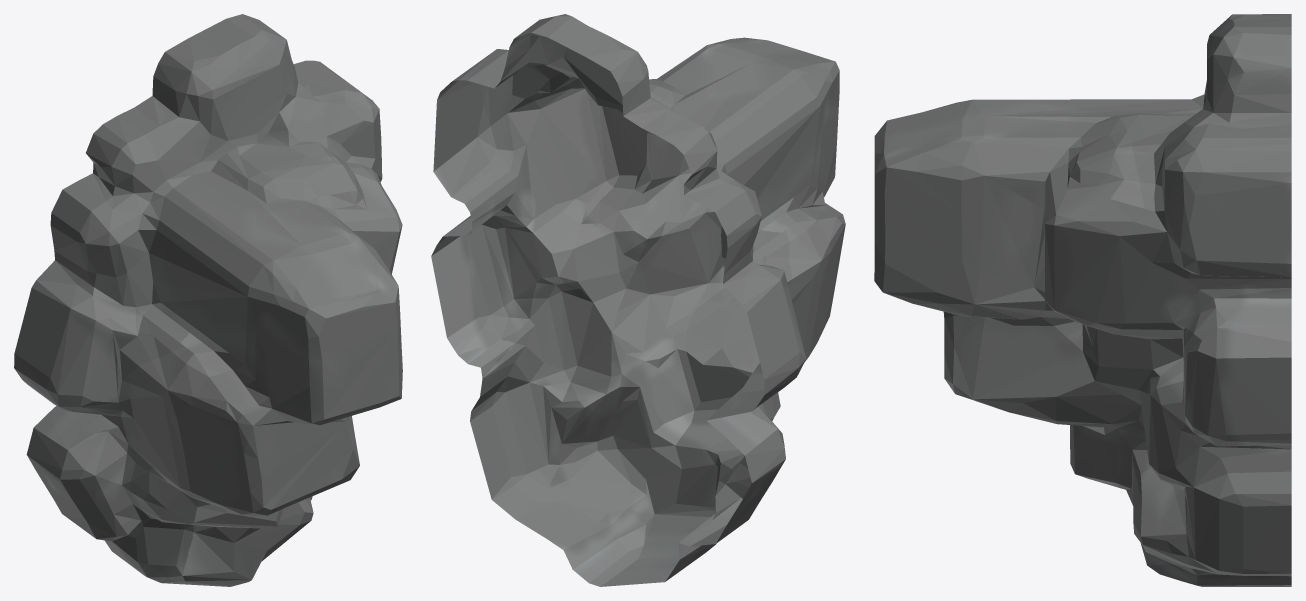
The model's file is Rock.obj.
3 renders of one model, left to right at view 1: azimuth 30°, elevation 25°; view 2: azimuth 150°, elevation 25°; view 3: azimuth 270°, elevation 25°, orthographic. The views are drawn at different scales.
Parts seen in each view (by area): view 1: Rock_1__Rock_1__0; view 2: Rock_1__Rock_1__0; view 3: Rock_1__Rock_1__0.
Boxes of the visible parts, <box> form: Rock_1__Rock_1__0: <box>14,14,402,586</box>; Rock_1__Rock_1__0: <box>431,14,845,586</box>; Rock_1__Rock_1__0: <box>874,14,1291,586</box>.
Size of the model in its own units: 1.2 by 1.85 by 1.2.
Materials: 1 (1 with a texture image).
